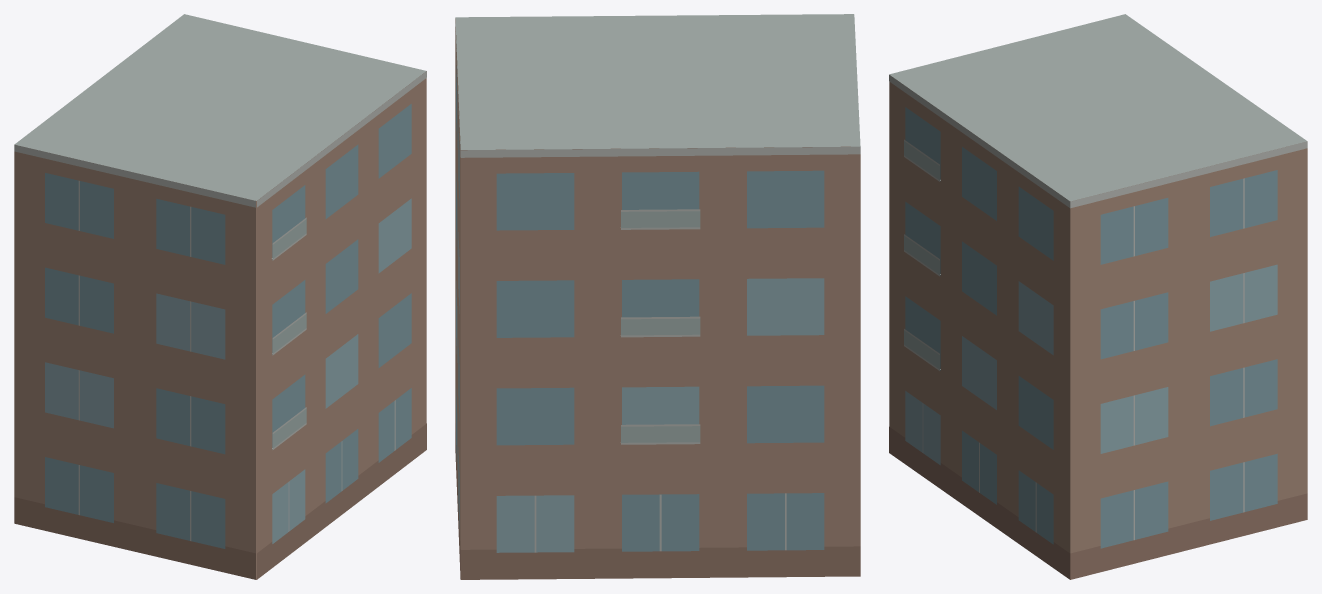
The model's file is survey-upis-32967434.glb.
3 views of the same model, side by side, from view 1: azimuth 30°, elevation 25°; view 2: azimuth 150°, elevation 25°; view 3: azimuth 270°, elevation 25° (orthographic). The views are drawn at different scales.
Visible parts, largest first — view 1: survey-upis-32967434.tmp; view 2: survey-upis-32967434.tmp; view 3: survey-upis-32967434.tmp.
Boxes of the visible parts, bbox=[...] form: survey-upis-32967434.tmp: bbox=[14, 14, 426, 579]; survey-upis-32967434.tmp: bbox=[455, 14, 860, 579]; survey-upis-32967434.tmp: bbox=[889, 14, 1307, 579].
Bounding box in the file's own units: 14.36 × 13.5 × 13.54.
